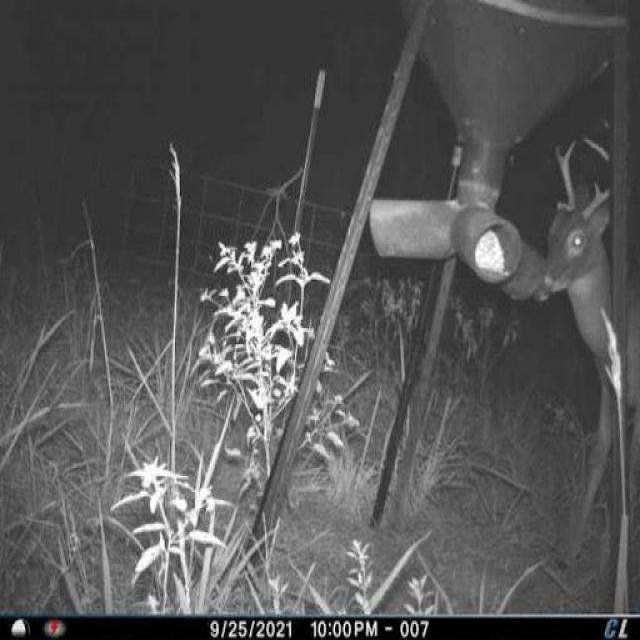deer: (531, 120, 640, 564)
